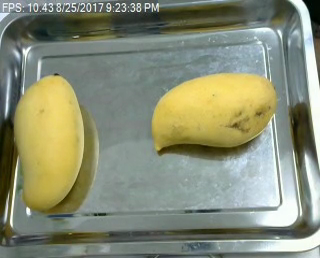Mango: (152, 72, 276, 152), (10, 74, 81, 210)
